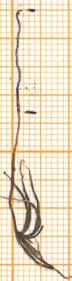flower: (5, 159, 59, 278)
root: (6, 8, 34, 112)
stem: (8, 112, 24, 232)
